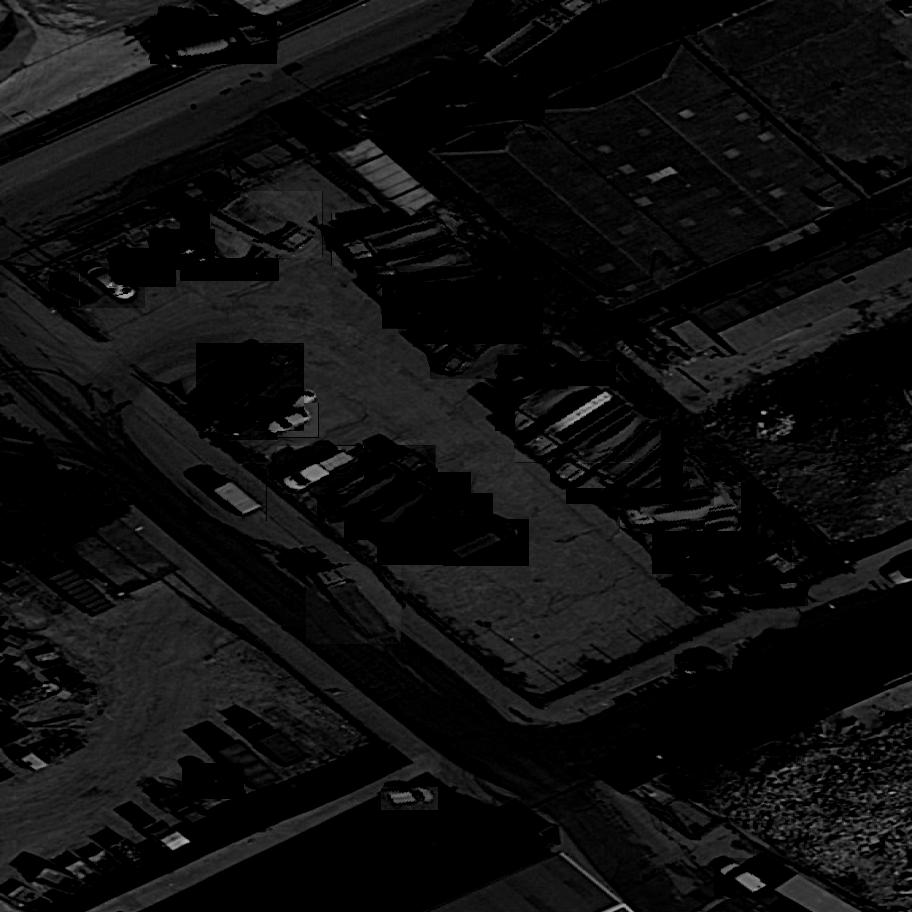large-vehicle: (196, 336, 305, 443), (431, 289, 544, 392), (547, 397, 662, 497), (382, 241, 498, 339), (514, 380, 634, 472), (650, 480, 758, 582), (567, 423, 686, 514), (316, 441, 436, 531), (344, 466, 471, 550), (674, 511, 792, 600), (377, 487, 494, 575), (493, 354, 617, 437), (306, 550, 403, 655), (179, 192, 279, 292), (411, 275, 540, 349), (210, 184, 323, 266), (332, 210, 456, 271), (620, 479, 742, 534), (150, 15, 277, 67), (187, 458, 267, 529), (592, 462, 714, 508), (685, 564, 808, 608), (357, 242, 482, 285), (420, 80, 544, 122), (277, 443, 365, 499)
small-vehicle: (441, 515, 529, 572), (383, 94, 448, 157), (79, 257, 145, 315), (149, 224, 217, 275), (110, 244, 177, 292), (218, 395, 279, 447), (714, 853, 774, 904), (183, 757, 245, 804), (498, 353, 568, 392), (630, 0, 698, 40), (259, 400, 319, 441), (49, 268, 105, 311), (436, 806, 484, 850), (382, 838, 446, 862), (674, 654, 730, 680), (382, 787, 439, 812)
